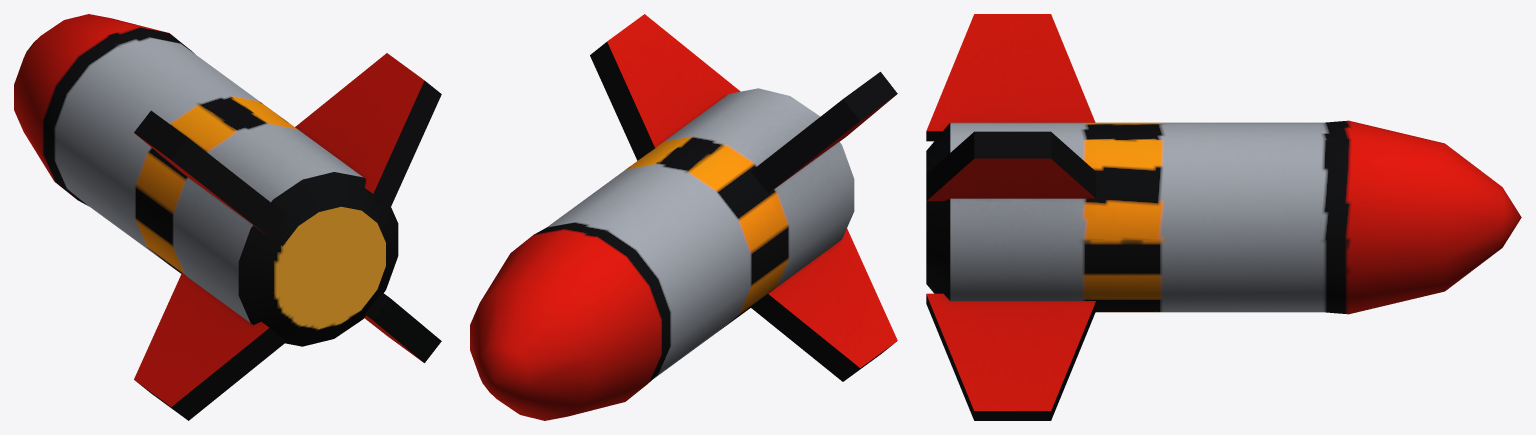
The model's file is TorpedoPack.obj.
The picture shows the model from 3 angles, left to right: view 1: azimuth 30°, elevation 25°; view 2: azimuth 150°, elevation 25°; view 3: azimuth 270°, elevation 25°; orthographic projection. The views are drawn at different scales.
Parts seen in each view (by area): view 1: Body; view 2: Body; view 3: Body.
Boxes of the visible parts, <box> form: Body: <box>14,14,441,420</box>; Body: <box>470,14,897,420</box>; Body: <box>926,14,1521,420</box>.
Size of the model in its own units: 6.65 by 6.65 by 12.4.
